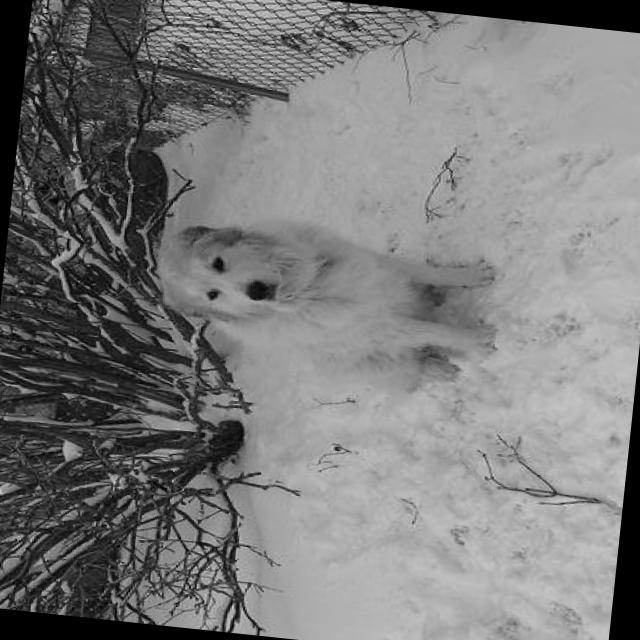sitting: (138, 193, 514, 410)
